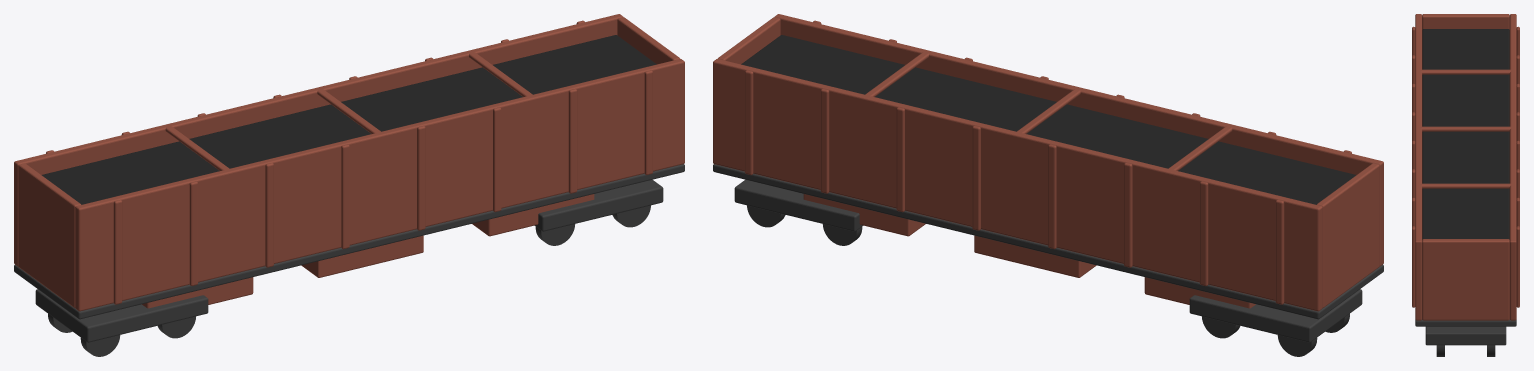
The model's file is Bulk Hopper.fbx.
3 views of the same model, side by side, from view 1: azimuth 30°, elevation 25°; view 2: azimuth 150°, elevation 25°; view 3: azimuth 270°, elevation 25° (orthographic). The views are drawn at different scales.
Parts seen in each view (by area): view 1: Wall_Right, Payload_Coal, Wall_Left, Wall_Rear, Chassis, Bogie_Rear, Bogie_Front, Discharge_Bay_2, Discharge_Bay_3, Discharge_Bay_1, Wall_Front, Rib_R_1 (+14 smaller); view 2: Wall_Left, Payload_Coal, Wall_Right, Wall_Rear, Chassis, Bogie_Rear, Bogie_Front, Discharge_Bay_2, Discharge_Bay_3, Discharge_Bay_1, Wall_Front, Rib_L_1 (+14 smaller); view 3: Payload_Coal, Wall_Front, Wall_Right, Wall_Left, Bogie_Front, Wall_Rear, Chassis, Crossbeam_1, Crossbeam_2, Crossbeam_3, Rib_L_8, Rib_R_8 (+16 smaller).
Part boxes in pixels (x1,y1,x2,y2): Wall_Right: (75,59,684,311); Payload_Coal: (41,35,656,204); Wall_Left: (14,14,623,266); Wall_Rear: (18,163,81,307); Chassis: (14,164,684,319); Bogie_Rear: (35,289,208,342); Bogie_Front: (534,179,663,231); Discharge_Bay_2: (301,235,423,277); Discharge_Bay_3: (472,194,594,236); Discharge_Bay_1: (142,277,253,308); Wall_Front: (617,17,680,64); Rib_R_1: (113,200,122,304); Wall_Left: (713,59,1322,311); Payload_Coal: (741,35,1356,204); Wall_Right: (774,14,1383,266); Wall_Rear: (1316,163,1379,307); Chassis: (713,164,1383,319); Bogie_Rear: (1189,289,1362,342); Bogie_Front: (734,179,863,231); Discharge_Bay_2: (974,235,1096,277); Discharge_Bay_3: (803,194,925,236); Discharge_Bay_1: (1144,277,1255,308); Wall_Front: (717,17,780,64); Rib_L_1: (1275,200,1284,304); Payload_Coal: (1422,29,1509,239); Wall_Front: (1422,239,1509,320); Wall_Right: (1415,14,1422,320); Wall_Left: (1509,14,1516,320); Bogie_Front: (1425,326,1506,345); Wall_Rear: (1422,14,1509,29); Chassis: (1415,319,1516,326); Crossbeam_1: (1420,69,1511,74); Crossbeam_2: (1420,126,1511,131); Crossbeam_3: (1420,183,1511,188); Rib_L_8: (1516,226,1519,307); Rib_R_8: (1412,226,1415,307).
Bounding box in the file's own units: 1600 × 420 × 320.
